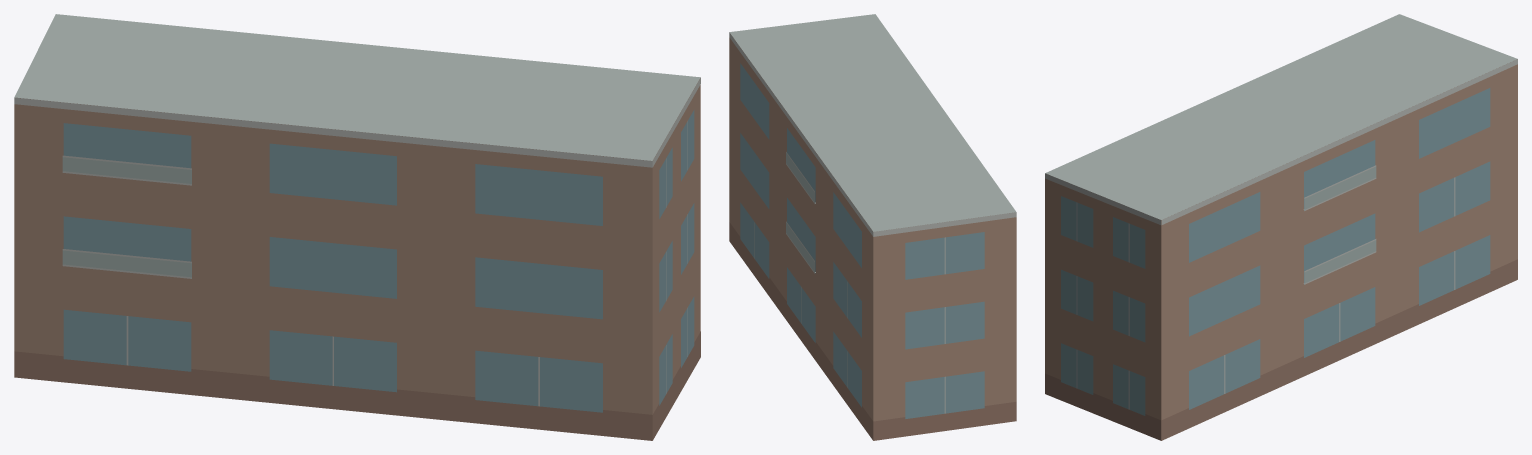
File: survey-upis-33029824.glb
3 renders of one model, left to right at view 1: azimuth 30°, elevation 25°; view 2: azimuth 150°, elevation 25°; view 3: azimuth 270°, elevation 25°, orthographic. The views are drawn at different scales.
Parts seen in each view (by area): view 1: survey-upis-33029824.tmp; view 2: survey-upis-33029824.tmp; view 3: survey-upis-33029824.tmp.
Boxes of the visible parts, bbox=[...] form: survey-upis-33029824.tmp: bbox=[14, 14, 700, 440]; survey-upis-33029824.tmp: bbox=[729, 14, 1016, 440]; survey-upis-33029824.tmp: bbox=[1045, 14, 1517, 440].
Bounding box in the file's own units: 20.43 × 10.2 × 19.81.
